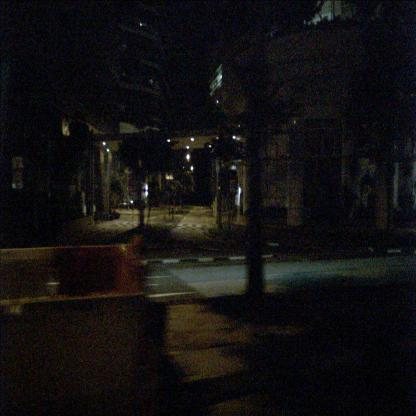human-pedestrian-adult: (79, 182, 87, 234)
movable_object-barrier: (0, 290, 159, 416), (43, 246, 141, 328), (0, 246, 45, 328)
